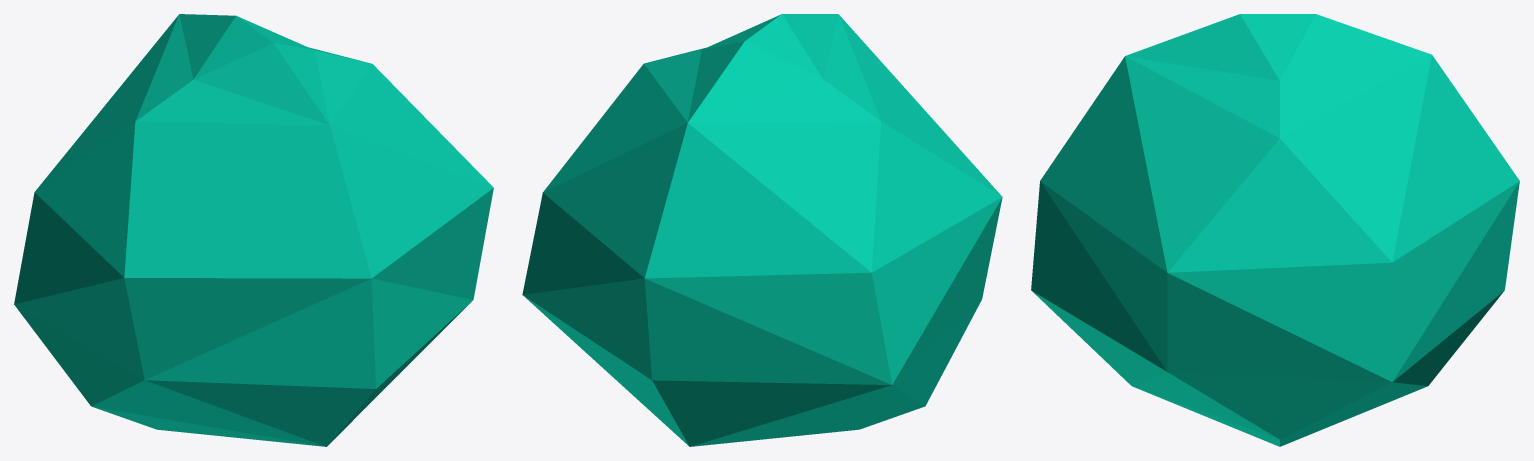
Rendered from Flower_Seed_3.fbx.
The picture shows the model from 3 angles, left to right: view 1: azimuth 30°, elevation 25°; view 2: azimuth 150°, elevation 25°; view 3: azimuth 270°, elevation 25°; orthographic projection.
Visible parts, largest first — view 1: Seed_3; view 2: Seed_3; view 3: Seed_3.
Boxes of the visible parts, x1,y1,x2,y2 form: Seed_3: (14,14,493,446); Seed_3: (522,14,1002,446); Seed_3: (1031,14,1519,446).
Size of the model in its own units: 6.62 by 6.72 by 7.44.
